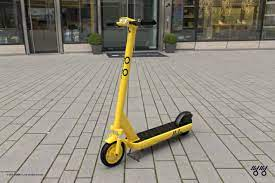kick_board: (99, 17, 192, 167)
kick_handler: (106, 16, 157, 27)
kick_neck: (113, 32, 136, 129)
kick_wheel: (102, 138, 125, 167), (175, 111, 191, 135)
